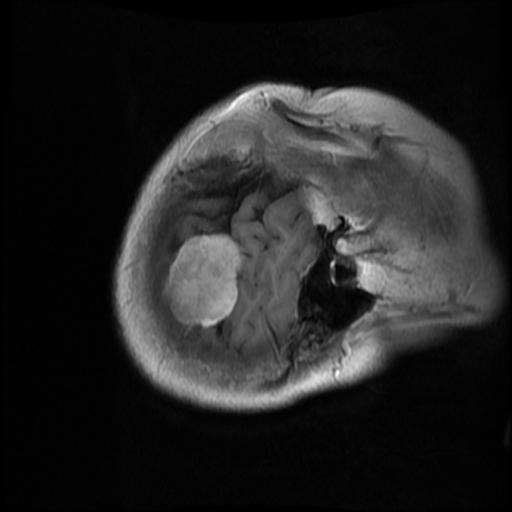meningioma: (164, 232, 241, 329)
